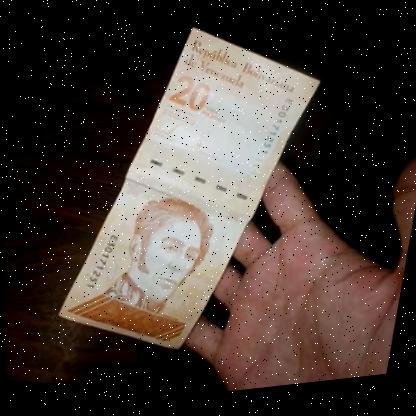twenty-front-vef: (46, 1, 331, 383)
